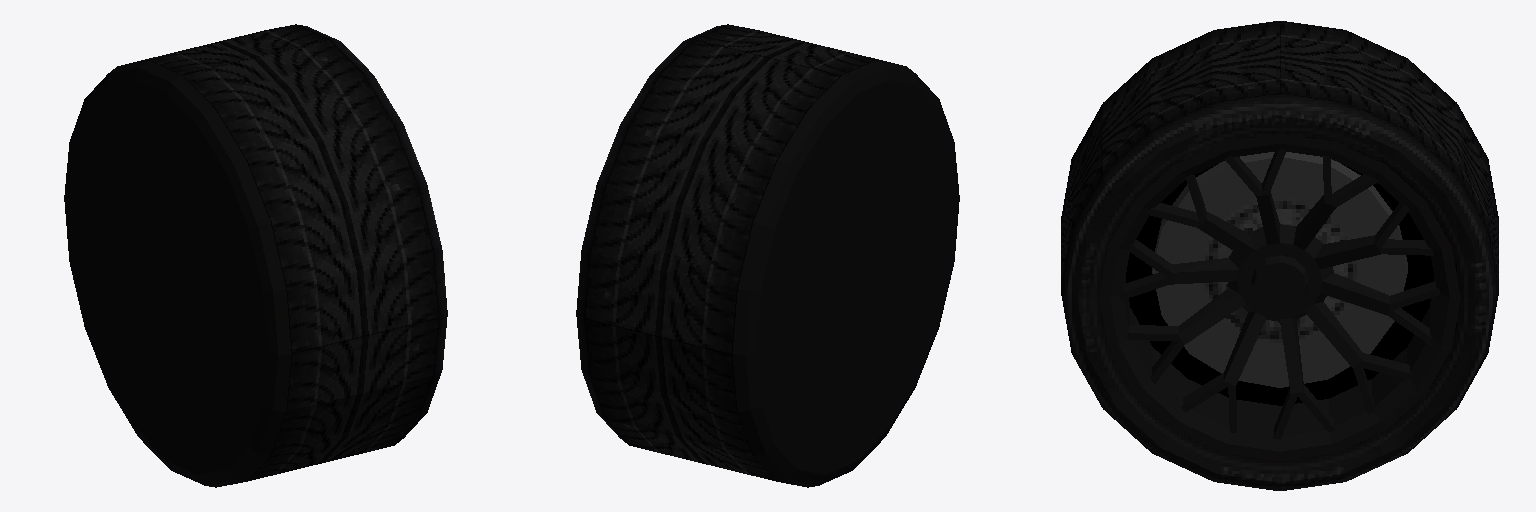
The picture shows the model from 3 angles: view 1: azimuth 30°, elevation 25°; view 2: azimuth 150°, elevation 25°; view 3: azimuth 270°, elevation 25°; orthographic projection.
Parts seen in each view (by area): view 1: polySurface41; view 2: polySurface41; view 3: polySurface41.
Part boxes in pixels (bbox=[...]): polySurface41: bbox=[64, 24, 447, 487]; polySurface41: bbox=[576, 24, 959, 487]; polySurface41: bbox=[1061, 21, 1498, 490].
Bounding box in the file's own units: 1.97 × 4.19 × 4.19.
1 materials, 1 textured.